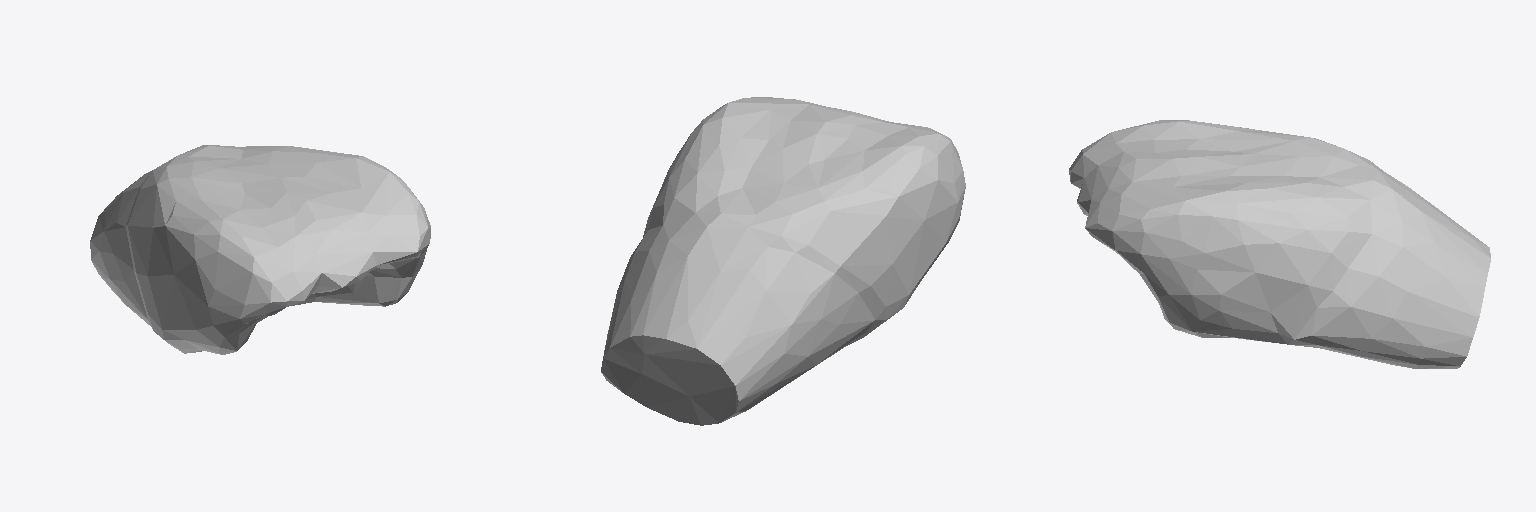
File: local_t21_7780_si.OBJ
3 views of the same model, side by side, from view 1: azimuth 30°, elevation 25°; view 2: azimuth 150°, elevation 25°; view 3: azimuth 270°, elevation 25° (orthographic).
Parts seen in each view (by area): view 1: Group26033; view 2: Group26033; view 3: Group26033.
Part boxes in pixels (x1,y1,x2,y2): Group26033: (90, 145, 430, 354); Group26033: (601, 97, 965, 425); Group26033: (1069, 120, 1490, 368).
Size of the model in its own units: 8.76 by 7.02 by 13.43.